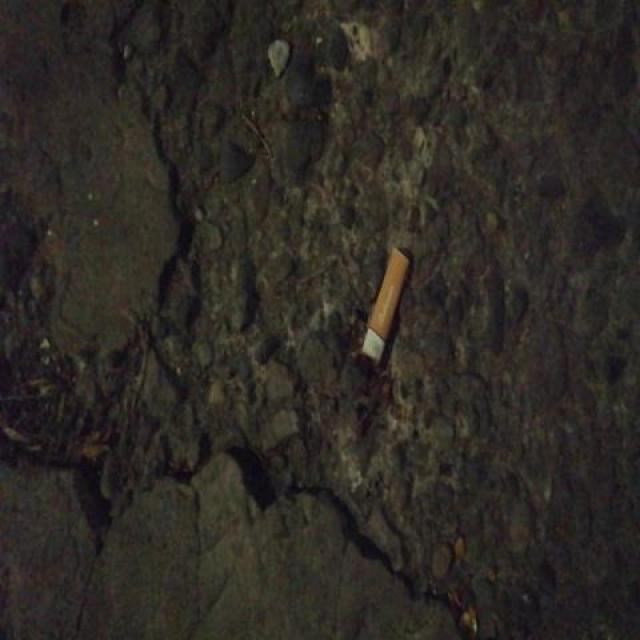non-organic waste: (359, 242, 412, 366)
